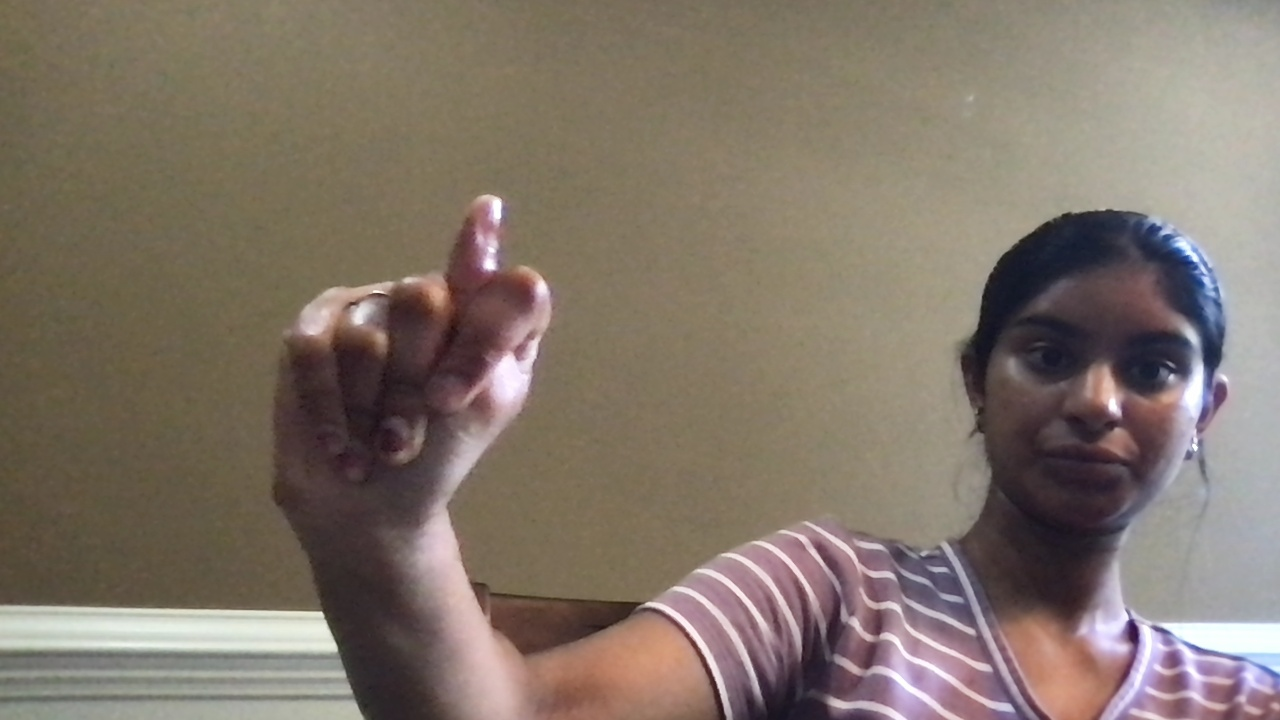Bathroom: (220, 168, 592, 556)
